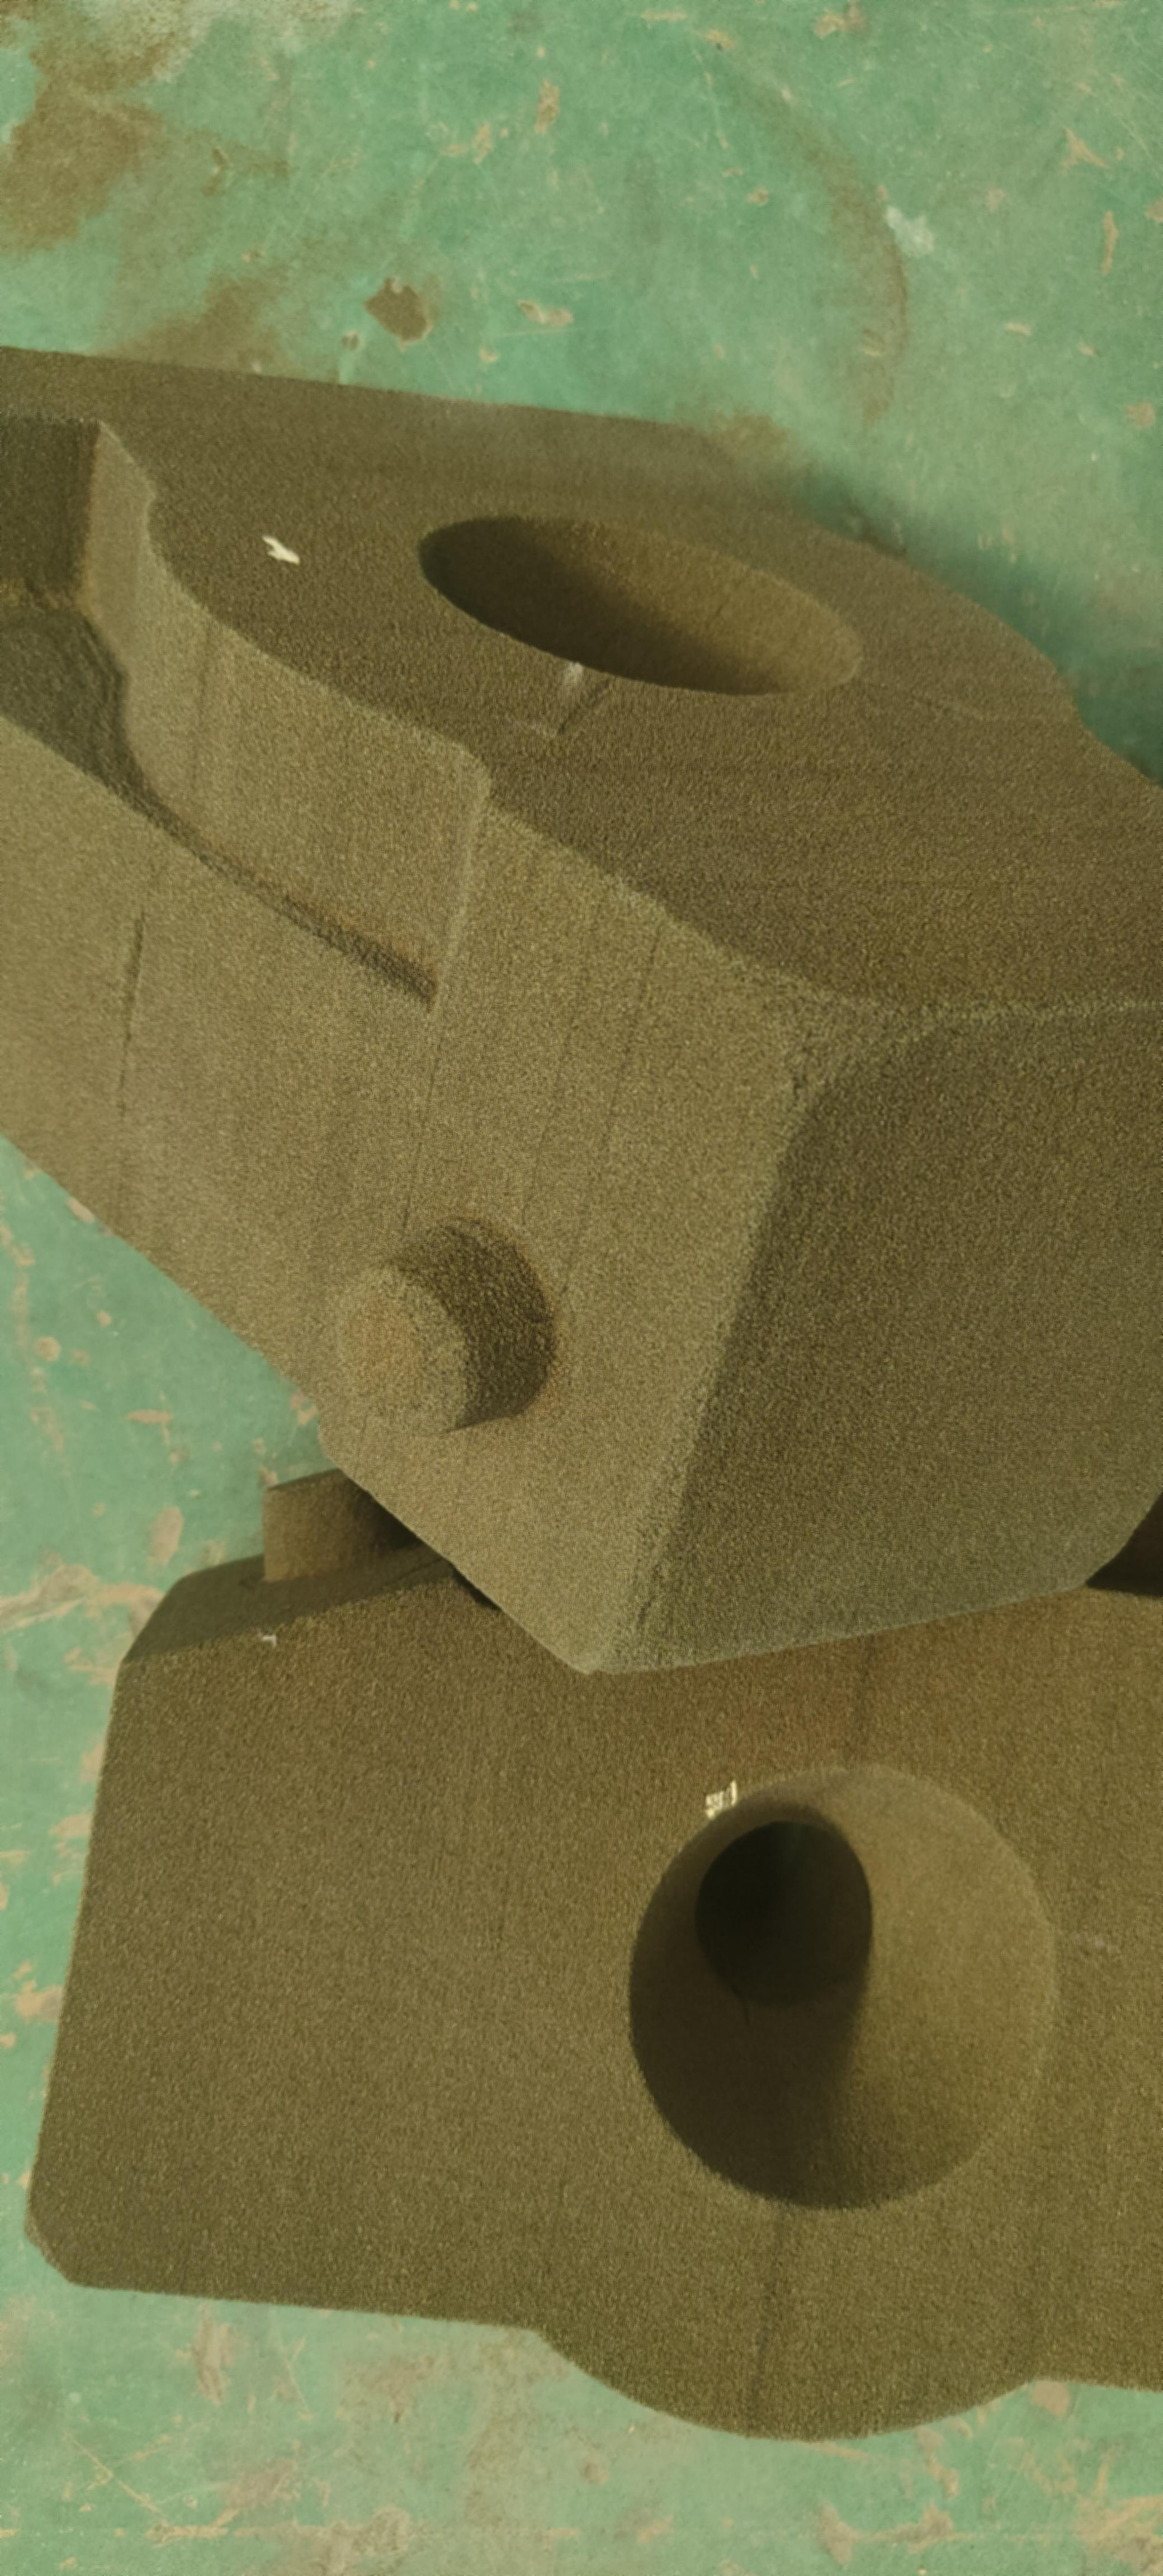pouring hole: (624, 1768, 1056, 2208), (419, 514, 862, 693)
